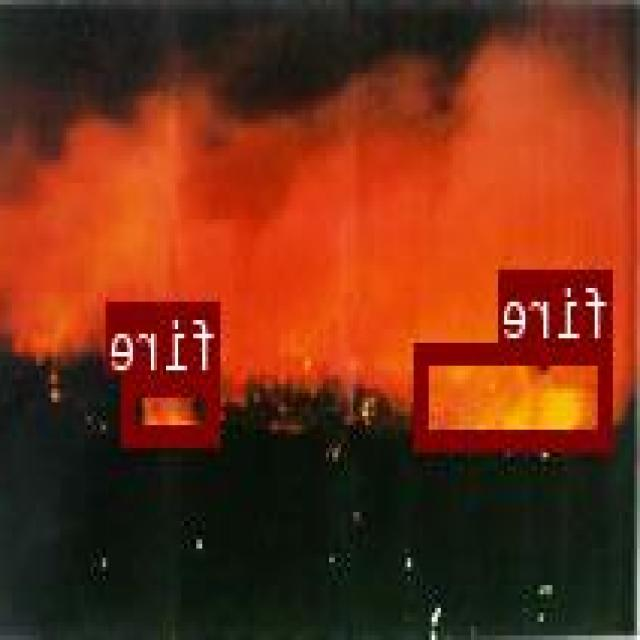fire: (418, 342, 614, 446), (126, 371, 222, 440)
